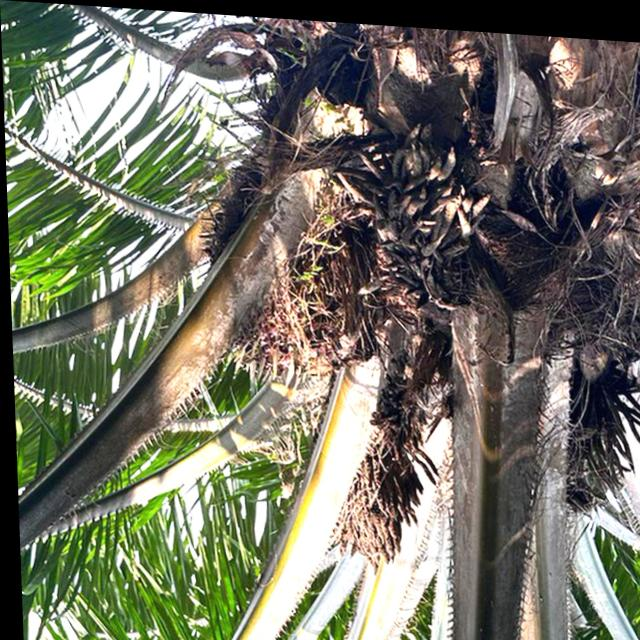ripe: (218, 207, 388, 404)
